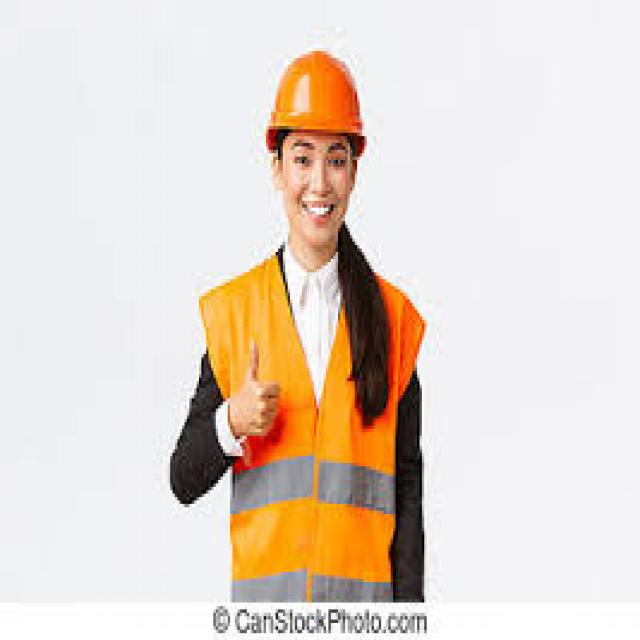Reflective-Jacket: (204, 252, 426, 599)
Safety-Helmet: (261, 41, 372, 150)
